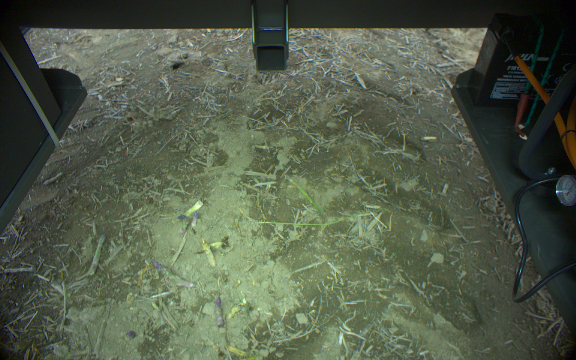aspa: (284, 173, 323, 215), (151, 258, 195, 289), (179, 200, 204, 221), (201, 240, 218, 269), (212, 296, 226, 327)
